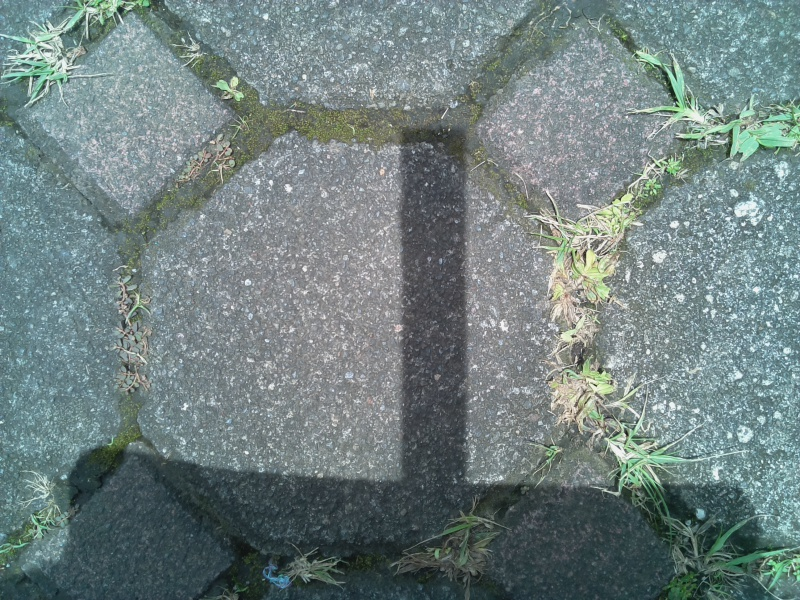Weed: (542, 202, 636, 335), (658, 77, 797, 163), (662, 524, 774, 594), (404, 511, 496, 587), (110, 271, 160, 397), (595, 422, 670, 492), (8, 473, 74, 548), (7, 25, 74, 90), (544, 361, 608, 427), (178, 135, 244, 185), (284, 547, 346, 593), (214, 70, 246, 104)
